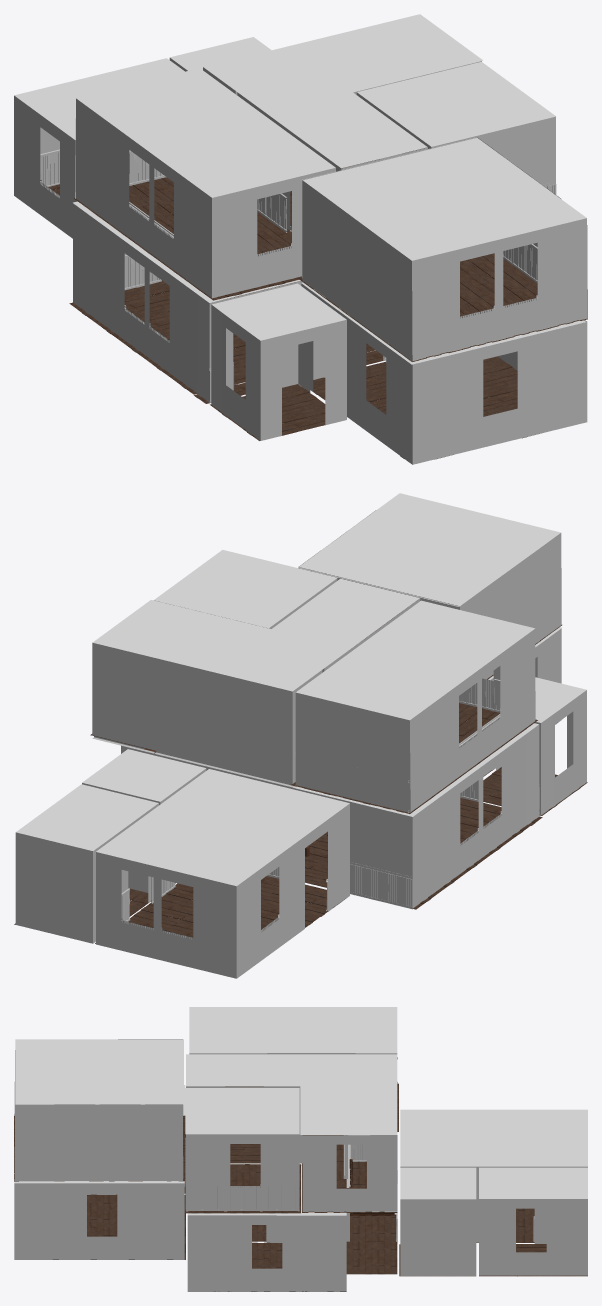
Rendered from House_1.fbx.
3 renders of one model, top to bottom at view 1: azimuth 30°, elevation 25°; view 2: azimuth 150°, elevation 25°; view 3: azimuth 270°, elevation 25°, orthographic. The views are drawn at different scales.
Parts seen in each view (by area): view 1: Celing2Floor_1, Bedroom_1, LivingRoom_2, Bedroom_2, LivingRoom_1, Entrance_1, Celing1Floor_1, Kitchen_1, Bathroom_1, Corridor_1; view 2: Celing2Floor_1, Celing1Floor_1, Bedroom_2, Kitchen_1, Corridor_1, LivingRoom_1, Bedroom_4, Bedroom_1, Entrance_1, LivingRoom_2; view 3: Celing2Floor_1, Celing1Floor_1, Bedroom_1, LivingRoom_2, Bedroom_3, Bathroom_1, Bedroom_4, Corridor_1, Pantry_1, LivingRoom_1, Kitchen_1, Bedroom_2.
Part boxes in pixels (left/top/right/bottom): Celing2Floor_1: left=76, top=14, right=586, bottom=260; Bedroom_1: left=299, top=137, right=587, bottom=361; LivingRoom_2: left=301, top=283, right=587, bottom=464; Bedroom_2: left=74, top=98, right=335, bottom=300; LivingRoom_1: left=69, top=203, right=385, bottom=403; Entrance_1: left=210, top=304, right=346, bottom=440; Celing1Floor_1: left=14, top=37, right=585, bottom=364; Kitchen_1: left=14, top=95, right=77, bottom=238; Bathroom_1: left=356, top=92, right=556, bottom=194; Corridor_1: left=203, top=61, right=481, bottom=232; Celing2Floor_1: left=93, top=493, right=560, bottom=720; Celing1Floor_1: left=16, top=627, right=586, bottom=886; Bedroom_2: left=290, top=629, right=537, bottom=813; Kitchen_1: left=95, top=803, right=349, bottom=978; Corridor_1: left=90, top=598, right=420, bottom=787; LivingRoom_1: left=128, top=725, right=542, bottom=909; Bedroom_4: left=14, top=803, right=158, bottom=943; Bedroom_1: left=298, top=510, right=561, bottom=679; Entrance_1: left=483, top=690, right=587, bottom=815; LivingRoom_2: left=483, top=628, right=561, bottom=776; Celing2Floor_1: left=15, top=1007, right=397, bottom=1134; Celing1Floor_1: left=14, top=1085, right=587, bottom=1215; Bedroom_1: left=14, top=1039, right=185, bottom=1181; LivingRoom_2: left=14, top=1183, right=185, bottom=1259; Bedroom_3: left=187, top=1215, right=346, bottom=1291; Bathroom_1: left=185, top=1134, right=300, bottom=1213; Bedroom_4: left=479, top=1199, right=587, bottom=1276; Corridor_1: left=186, top=1086, right=397, bottom=1214; Pantry_1: left=399, top=1199, right=476, bottom=1276; LivingRoom_1: left=252, top=1135, right=397, bottom=1274; Kitchen_1: left=400, top=1166, right=587, bottom=1242; Bedroom_2: left=189, top=1053, right=398, bottom=1131.
Bounding box in the file's own units: 2173 × 1199 × 3990.
